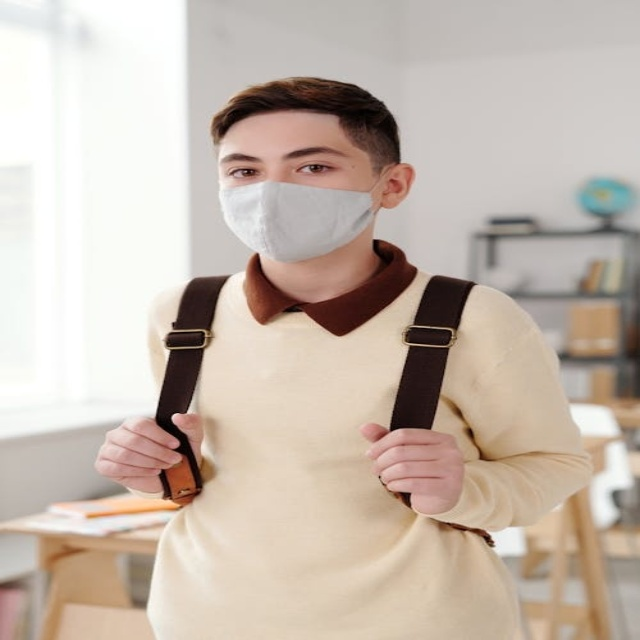Mascara: (220, 171, 384, 261)
Sin_gafas: (215, 145, 352, 181)
Sin_guantes: (360, 419, 466, 517), (95, 410, 194, 495)
